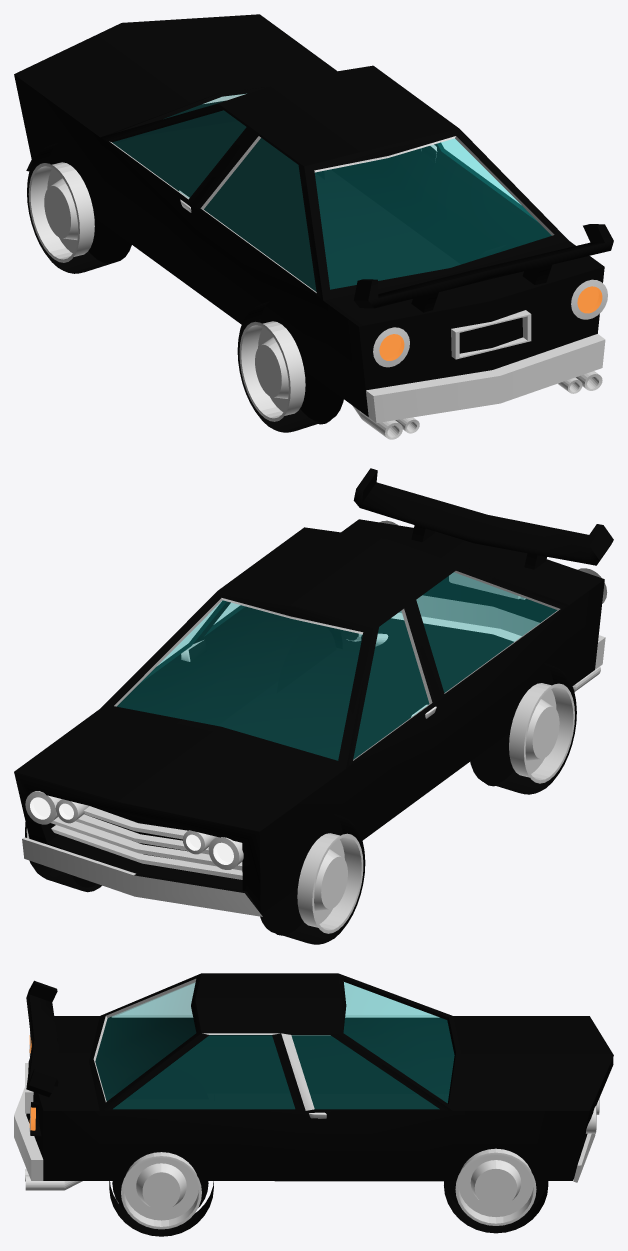
The model's file is blackLowPolyCar.glb.
The picture shows the model from 3 angles, top to bottom: view 1: azimuth 30°, elevation 25°; view 2: azimuth 150°, elevation 25°; view 3: azimuth 270°, elevation 25°; orthographic projection. The views are drawn at different scales.
Parts seen in each view (by area): view 1: Cube; view 2: Cube; view 3: Cube.
Boxes of the visible parts, x1,y1,x2,y2 form: Cube: [14, 14, 613, 439]; Cube: [14, 468, 613, 944]; Cube: [14, 973, 613, 1236].
Bounding box in the file's own units: 6.47 × 5.08 × 14.76.
